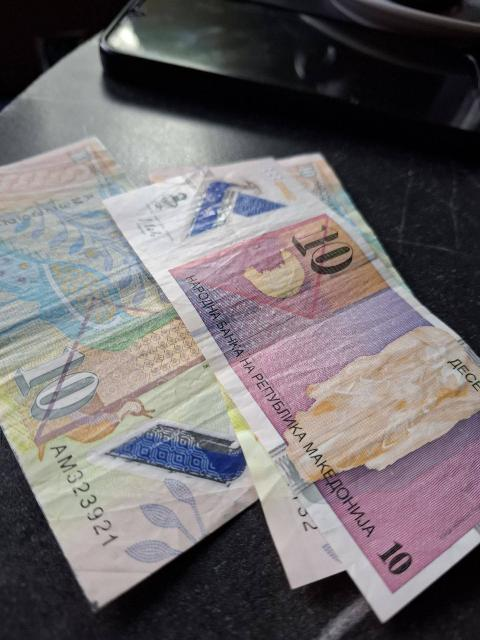10_note: (123, 160, 479, 586), (0, 149, 244, 593)
